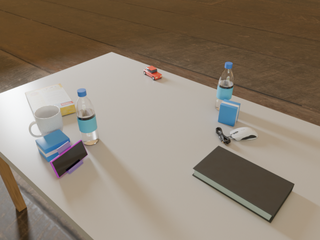book: (192, 146, 294, 223)
bottle: (76, 88, 99, 145), (215, 62, 234, 110)
box: (25, 84, 76, 117), (35, 129, 71, 162), (218, 99, 240, 126)
cup: (29, 105, 63, 137)
mouse: (230, 127, 258, 141)
phone: (50, 140, 88, 178)
toy_car: (144, 66, 162, 80)
